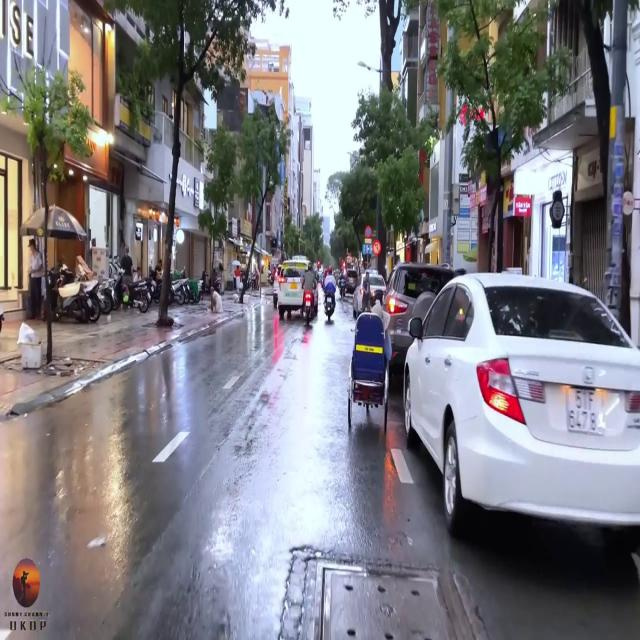bien_trang: (566, 384, 601, 435)
